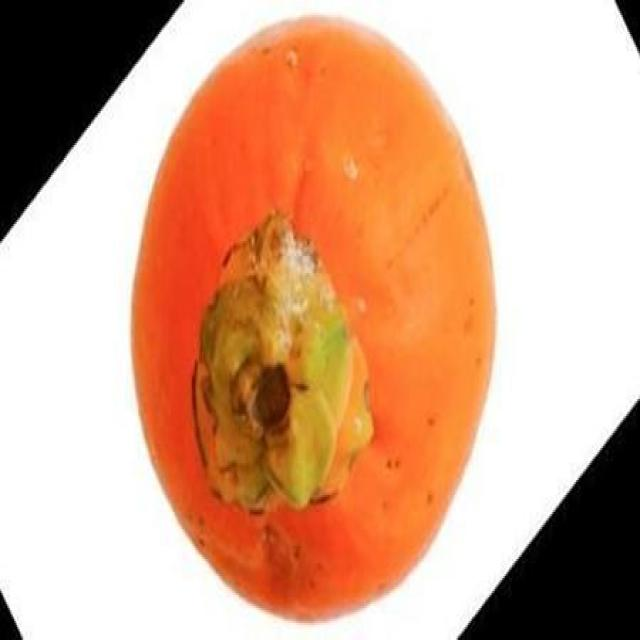good: (125, 15, 503, 627)
